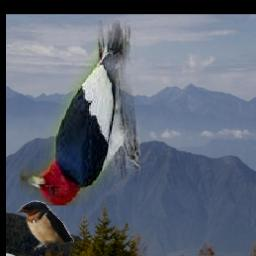Swallow: (17, 200, 75, 251)
Woodpecker: (20, 21, 140, 207)
